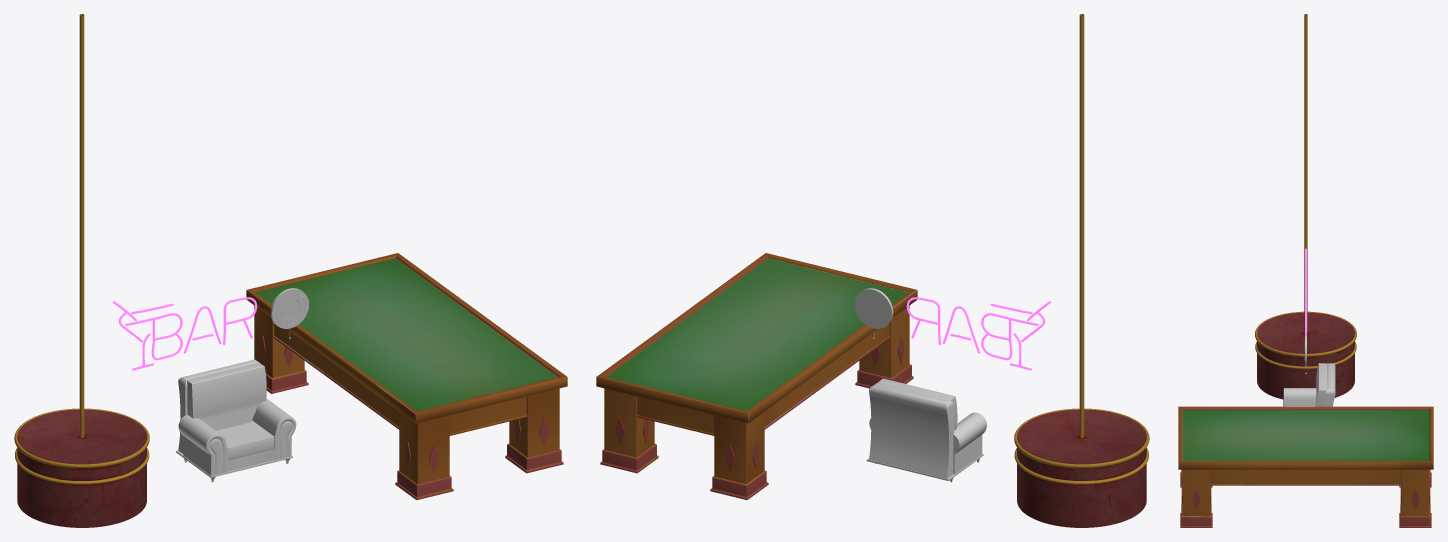
Rendered from AssetsGame.fbx.
3 views of the same model, side by side, from view 1: azimuth 30°, elevation 25°; view 2: azimuth 150°, elevation 25°; view 3: azimuth 270°, elevation 25° (orthographic). The views are drawn at different scales.
Visible parts, largest first — view 1: PoolTable, PoleDanceBase, ArmchairWoodLegs, LedBAR, DartBoard; view 2: PoolTable, PoleDanceBase, ArmchairWoodLegs, LedBAR, DartBoard; view 3: PoolTable, PoleDanceBase, ArmchairWoodLegs.
Part boxes in pixels (<box>): PoolTable: <box>246,253,567,499</box>; PoleDanceBase: <box>14,14,149,527</box>; ArmchairWoodLegs: <box>176,359,296,482</box>; LedBAR: <box>112,297,257,370</box>; DartBoard: <box>270,288,308,328</box>; PoolTable: <box>596,253,917,499</box>; PoleDanceBase: <box>1014,14,1149,527</box>; ArmchairWoodLegs: <box>866,378,986,482</box>; LedBAR: <box>906,297,1051,370</box>; DartBoard: <box>855,288,893,328</box>; PoolTable: <box>1178,406,1433,527</box>; PoleDanceBase: <box>1255,14,1356,399</box>; ArmchairWoodLegs: <box>1283,363,1335,406</box>.
Size of the model in its own units: 590 by 596 by 377.
